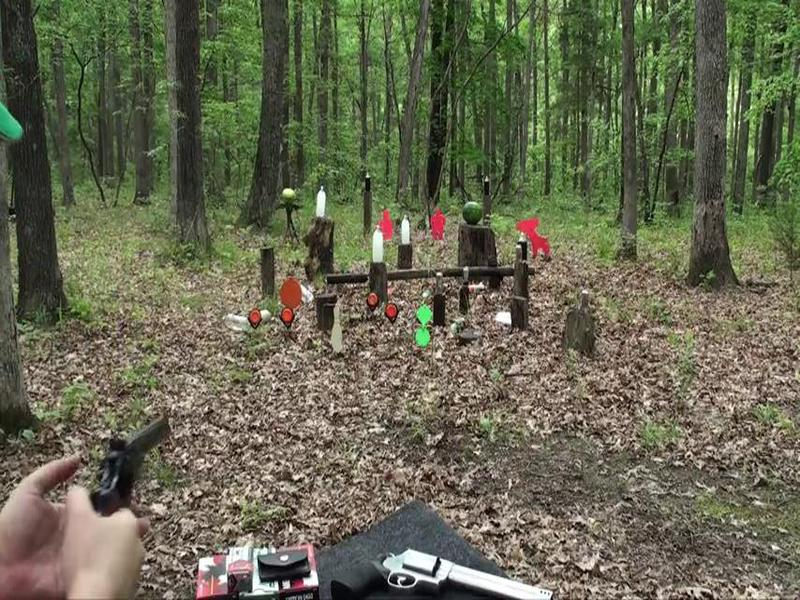Revolver: (67, 402, 188, 524)
